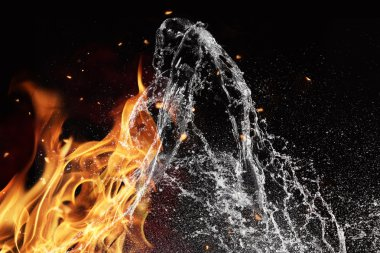fire: (12, 82, 149, 248)
